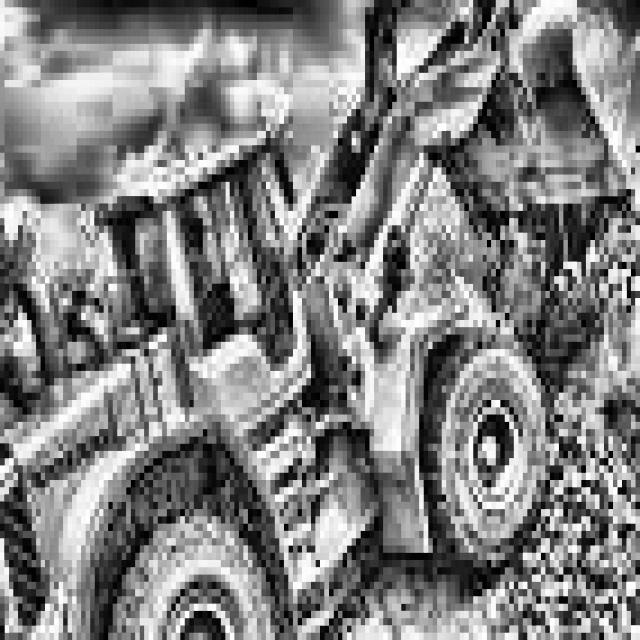buldozerpayloadergrader: (0, 102, 563, 640)
